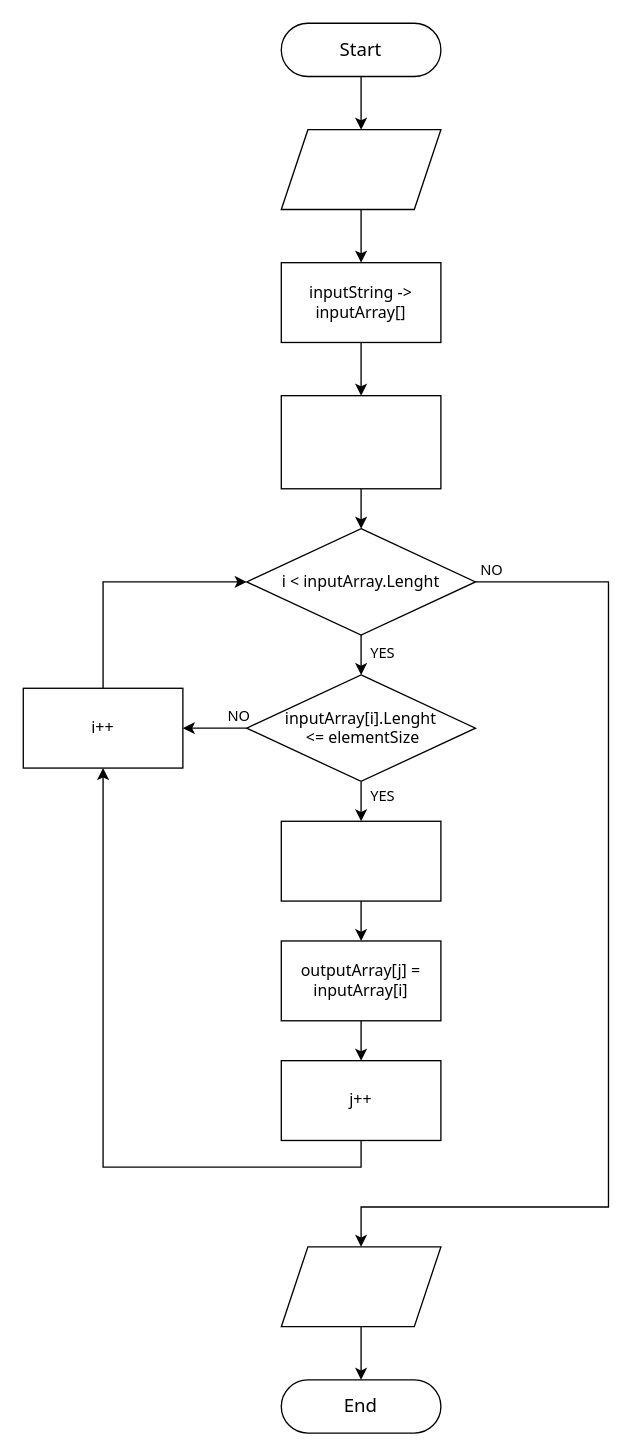
Image size: 642x1456. Some labels were removed from this diagram. Each missing label, with the centre of its shape:
i = 0 j = 0 elementSize = 3 outputArray[]: point (360, 441)
inputString: point (360, 168)
outputArray: point (360, 1286)
увеличить размер массива outputArray на 1: point (360, 860)
